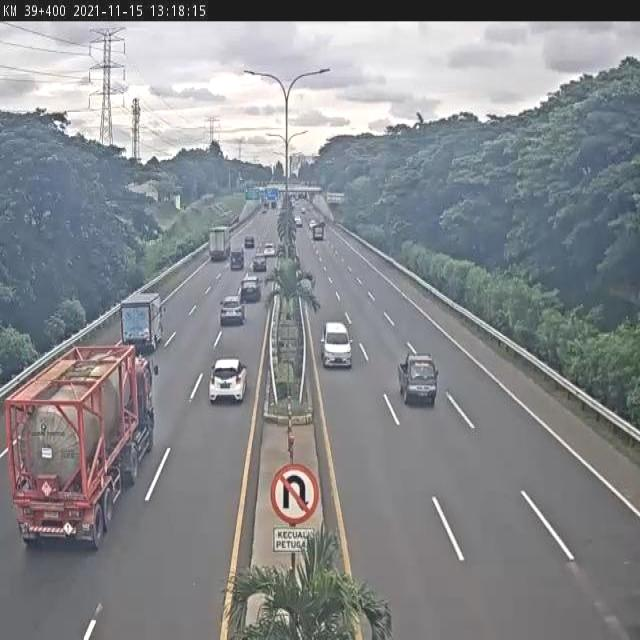Car: (398, 350, 438, 405), (207, 357, 249, 407), (320, 321, 353, 369), (220, 294, 246, 326), (240, 276, 261, 302), (230, 248, 244, 269), (252, 253, 267, 272), (263, 243, 276, 260), (244, 236, 255, 248)
Truck: (4, 343, 154, 548), (120, 290, 162, 350), (208, 225, 230, 262)
